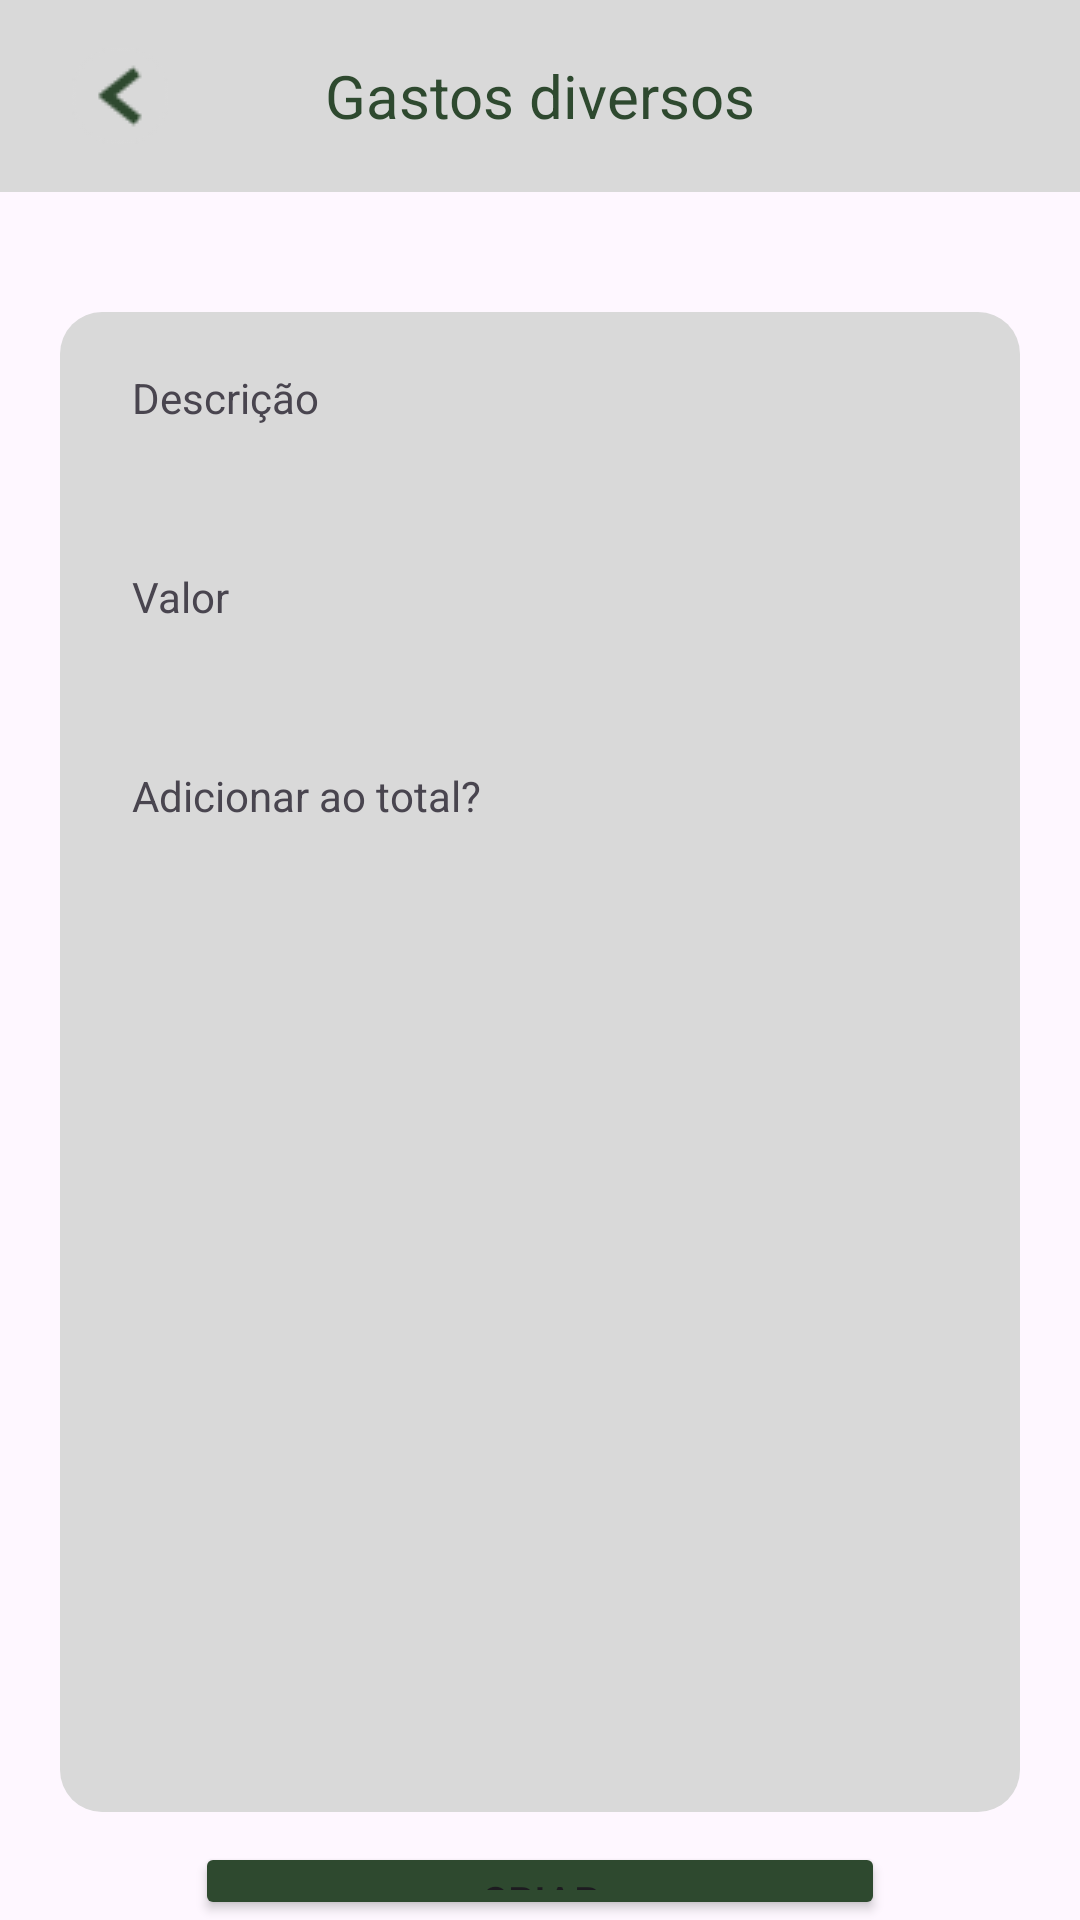

Where to tap for icons on this 1080 x 1920 app screen, as (x=x, y=y):
Voltar: (x=120, y=96)
